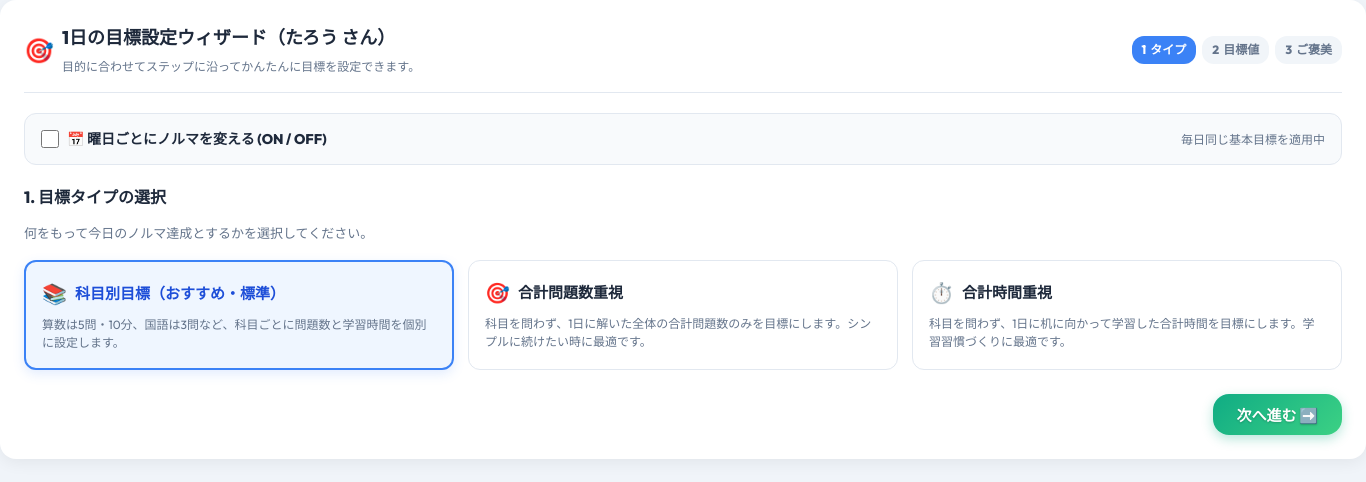
Test case: GoalSettingWizard Component Tests › switches dynamic inputs when total_time is selected in Step 1
Step 1. Click the text "合計時間重視" → click(1007, 293), box top-left (962, 281), bottom-right (1052, 305)
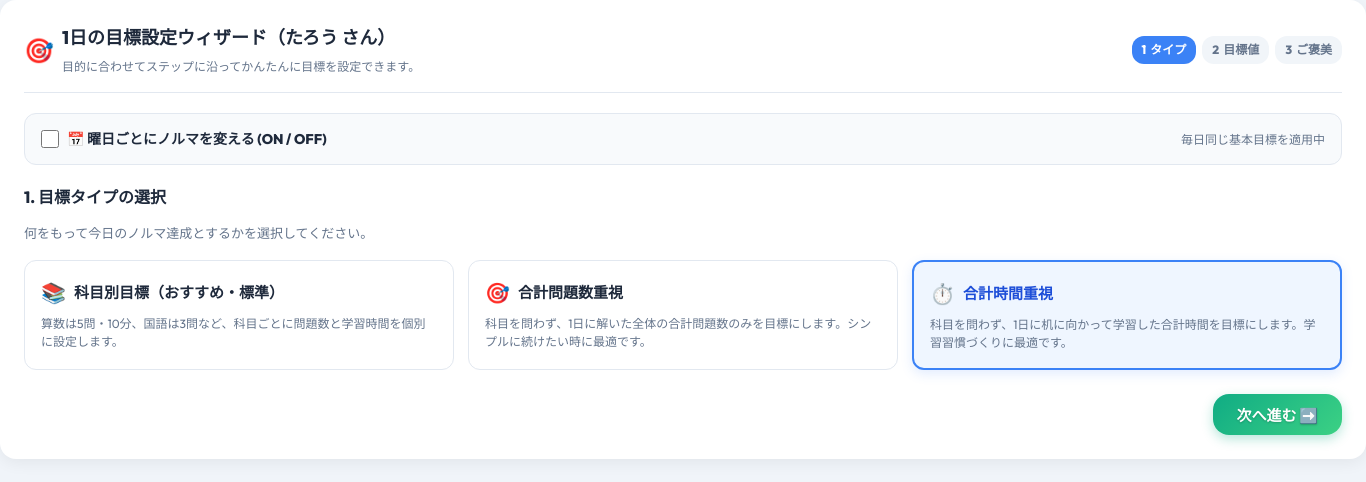
Step 2. Click the button "次へ進む ➡️" → click(1277, 414), box top-left (1212, 394), bottom-right (1342, 435)
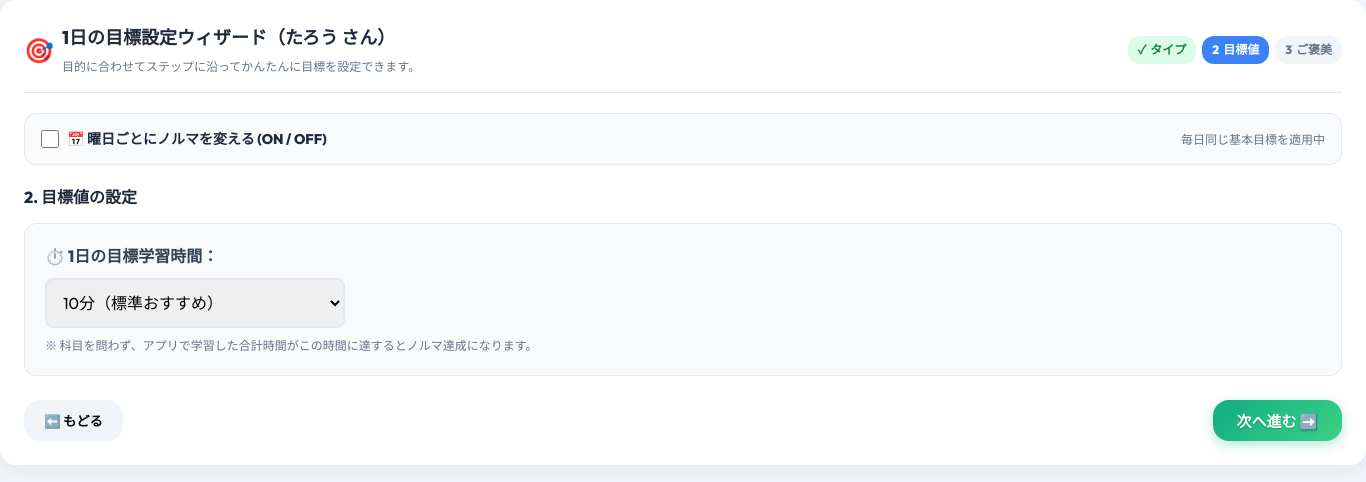
expect the text "⏱️ 1日の目標学習時間：" is shown: met, box top-left (45, 246), bottom-right (218, 266)
